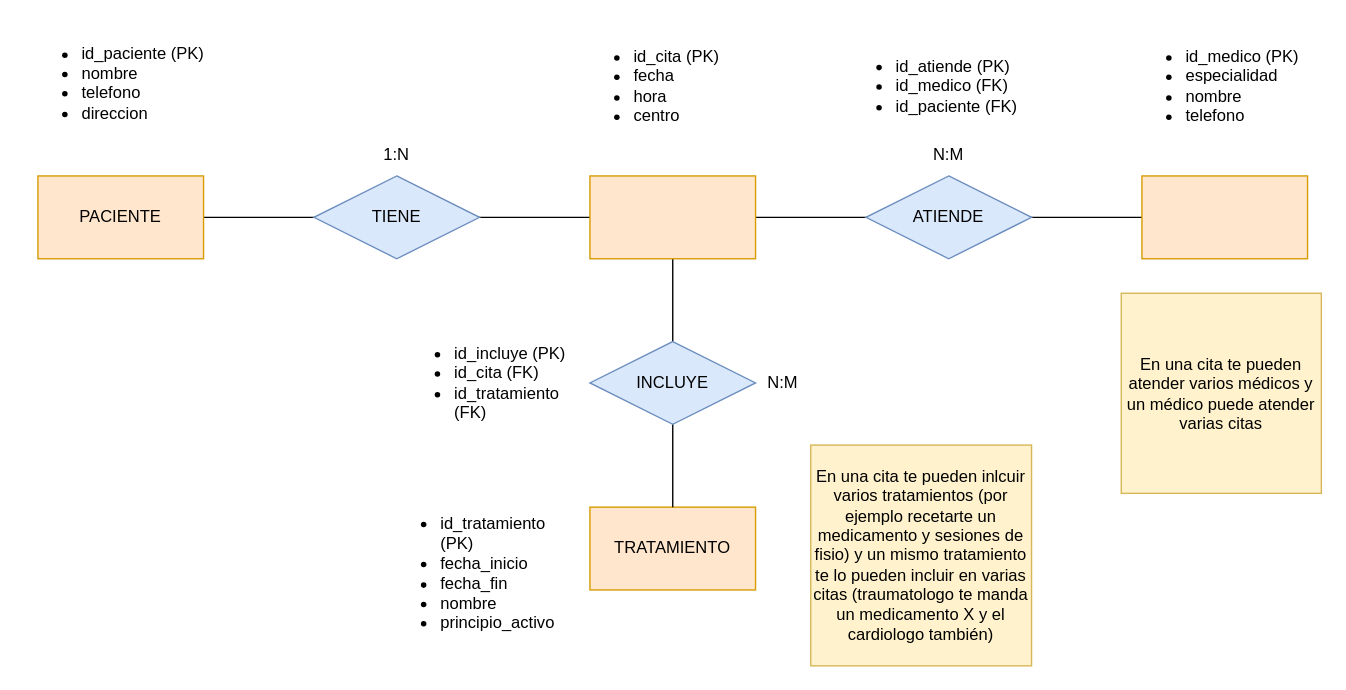
The diagram is 1346 pixels wide and 690 high, and some of its shapes have lost their labels. Here are the shapes that lost their labels. From the top down, the centre of each, then its label:
(x=672, y=217): CITA
(x=1224, y=217): MEDICO
